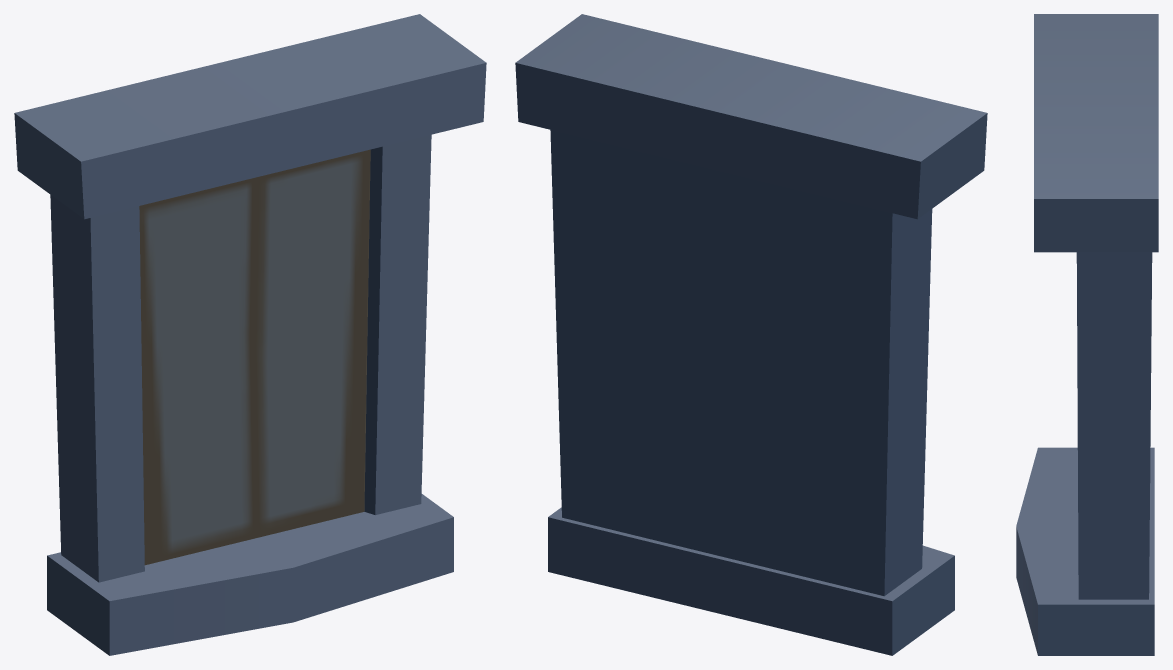
Rendered from Window_A4.fbx.
3 renders of one model, left to right at view 1: azimuth 30°, elevation 25°; view 2: azimuth 150°, elevation 25°; view 3: azimuth 270°, elevation 25°, orthographic. The views are drawn at different scales.
Parts seen in each view (by area): view 1: Window_A4; view 2: Window_A4; view 3: Window_A4.
Boxes of the visible parts, x1,y1,x2,y2 form: Window_A4: (14,14,486,655); Window_A4: (515,14,987,655); Window_A4: (1016,14,1158,655).
Size of the model in its own units: 158 by 187 by 51.42.
